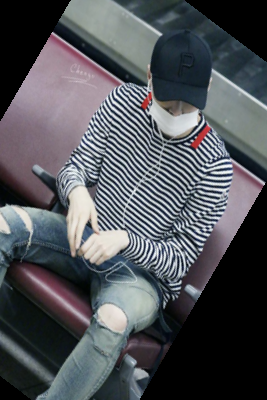mask_weared_incorrect: (144, 27, 219, 145)
